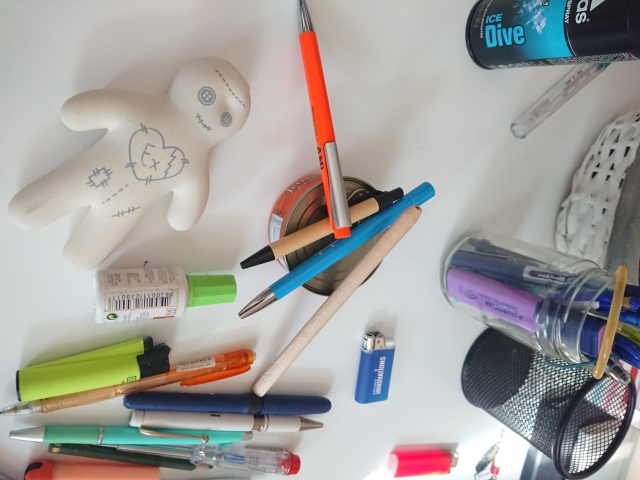Gavrilovic Pork Liver Pate 100g: (266, 172, 389, 300)
